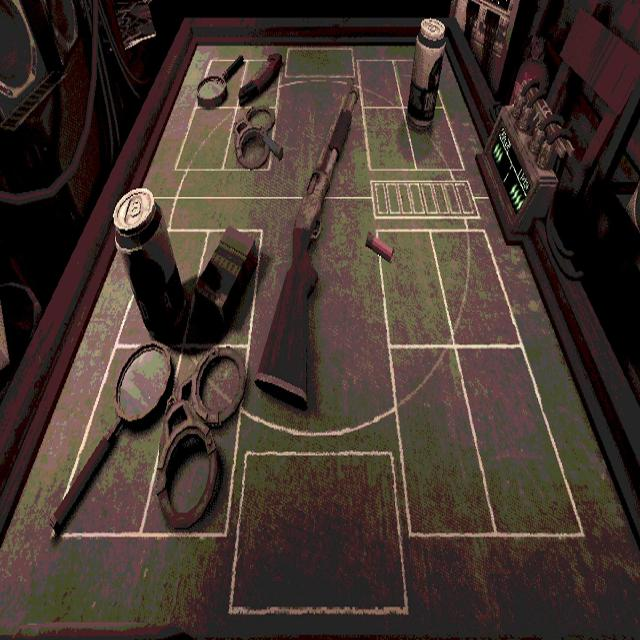can: (113, 188, 188, 343), (406, 18, 445, 138)
cigar: (195, 227, 262, 321)
doubledamage: (239, 53, 282, 106)
handcuff: (155, 347, 245, 531), (234, 108, 283, 168)
lens: (52, 342, 170, 537), (197, 55, 244, 109)
